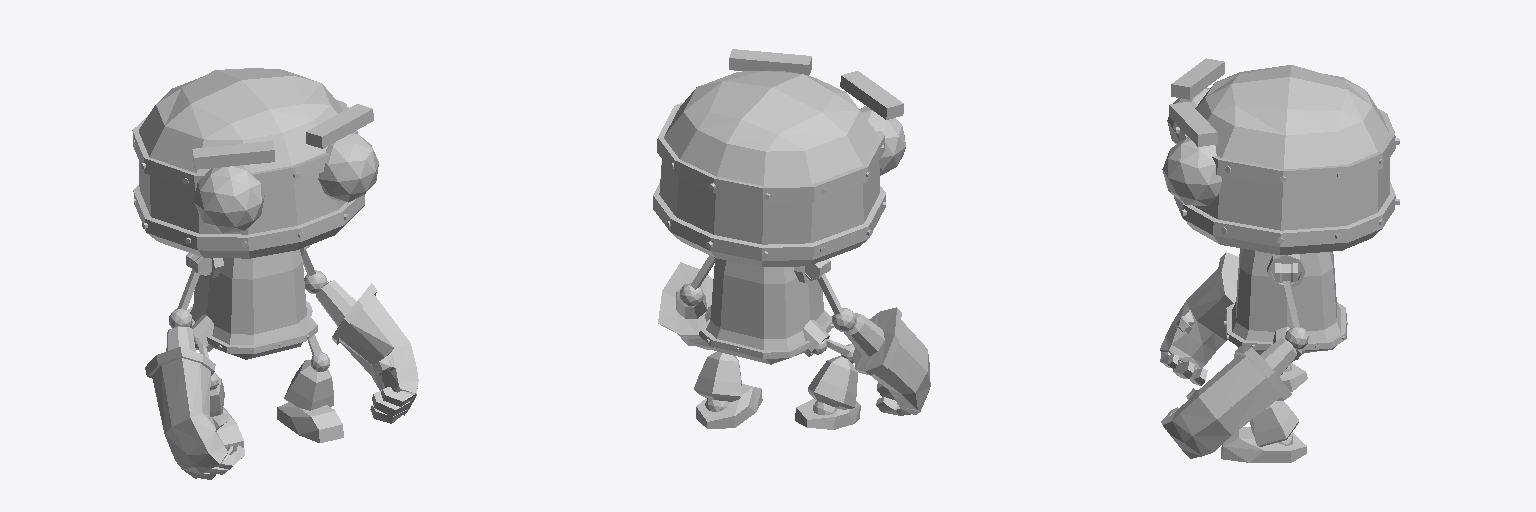
File: Robot_000007.obj
3 renders of one model, left to right at view 1: azimuth 30°, elevation 25°; view 2: azimuth 150°, elevation 25°; view 3: azimuth 270°, elevation 25°, orthographic.
Visible parts, largest first — view 1: Head_Cylinder, Torso_Cube.001, Hand.R_Cylinder.015, Hand.L_Cylinder.022, Foot.L_Cylinder.014, LowerLeg.L_Cylinder.012, Arm.R_Cylinder.013, Arm.L_Cylinder.010, Foot.R_Cylinder.017; view 2: Head_Cylinder, Torso_Cube.001, Hand.R_Cylinder.015, Hand.L_Cylinder.022, LowerLeg.R_Cylinder.018, LowerLeg.L_Cylinder.012, Foot.L_Cylinder.014, Foot.R_Cylinder.017, Arm.R_Cylinder.013, Arm.L_Cylinder.010; view 3: Head_Cylinder, Torso_Cube.001, Hand.L_Cylinder.022, Hand.R_Cylinder.015, Foot.L_Cylinder.014, LowerLeg.L_Cylinder.012, Arm.L_Cylinder.010.
Boxes of the visible parts, x1,y1,x2,y2 form: Head_Cylinder: [132, 68, 378, 258]; Torso_Cube.001: [187, 248, 317, 359]; Hand.R_Cylinder.015: [145, 326, 244, 479]; Hand.L_Cylinder.022: [316, 280, 418, 423]; Foot.L_Cylinder.014: [277, 402, 343, 442]; LowerLeg.L_Cylinder.012: [284, 360, 333, 410]; Arm.R_Cylinder.013: [169, 268, 199, 327]; Arm.L_Cylinder.010: [302, 250, 327, 293]; Foot.R_Cylinder.017: [217, 407, 243, 447]; Head_Cylinder: [653, 49, 905, 266]; Torso_Cube.001: [699, 257, 833, 364]; Hand.R_Cylinder.015: [844, 307, 930, 415]; Hand.L_Cylinder.022: [658, 262, 716, 350]; LowerLeg.R_Cylinder.018: [808, 356, 857, 414]; LowerLeg.L_Cylinder.012: [694, 352, 741, 411]; Foot.L_Cylinder.014: [696, 384, 762, 428]; Foot.R_Cylinder.017: [795, 399, 860, 429]; Arm.R_Cylinder.013: [817, 273, 855, 331]; Arm.L_Cylinder.010: [680, 255, 715, 306]; Head_Cylinder: [1162, 58, 1399, 254]; Torso_Cube.001: [1224, 248, 1347, 360]; Hand.L_Cylinder.022: [1161, 337, 1297, 458]; Hand.R_Cylinder.015: [1160, 252, 1238, 385]; Foot.L_Cylinder.014: [1221, 427, 1306, 462]; LowerLeg.L_Cylinder.012: [1250, 401, 1298, 446]; Arm.L_Cylinder.010: [1283, 281, 1308, 349].
Bounding box in the file's own units: 3.1 × 4.24 × 2.65.